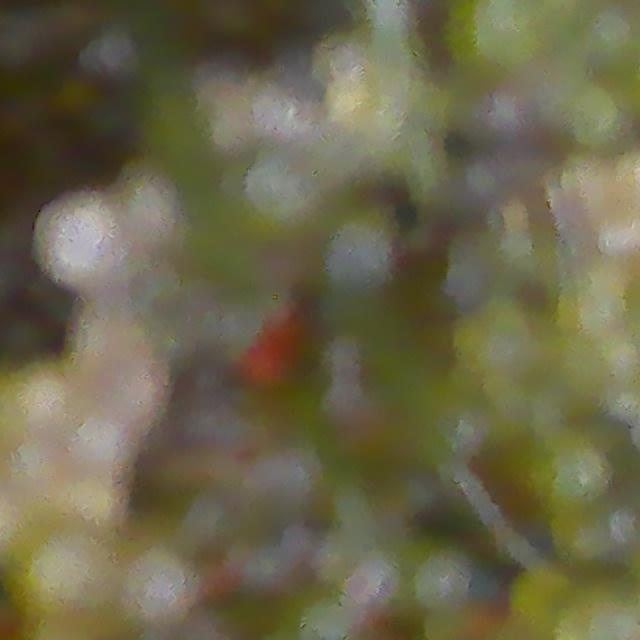SeaGrape: (30, 188, 132, 298), (434, 0, 558, 87), (311, 196, 410, 302), (528, 422, 617, 519), (236, 154, 328, 247), (118, 544, 205, 631), (570, 0, 640, 85), (405, 546, 476, 618)
